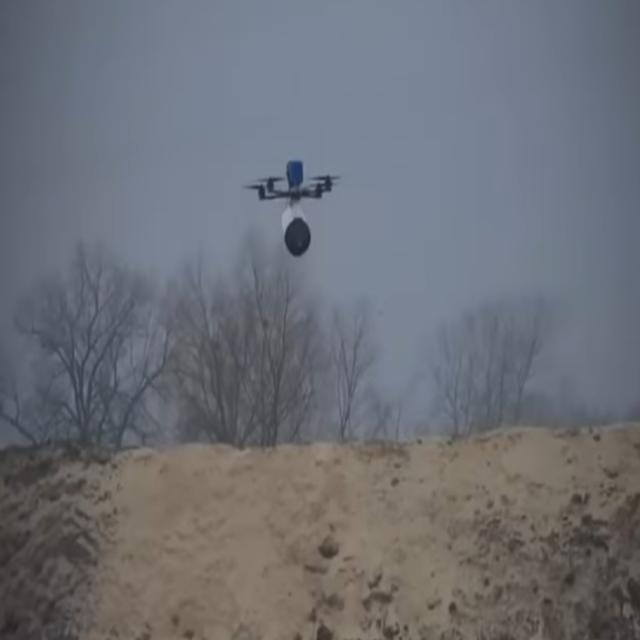drone: (243, 156, 342, 260)
